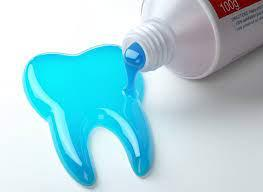toothpaste: (124, 0, 263, 79)
